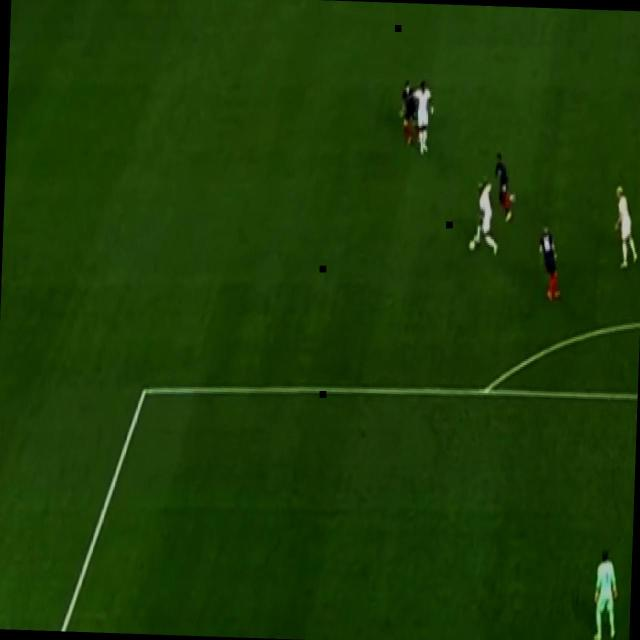ball: (465, 236, 477, 254)
player-white: (608, 180, 640, 276), (591, 545, 621, 640), (471, 177, 504, 259), (533, 222, 564, 306), (404, 74, 434, 160), (489, 147, 519, 225), (395, 75, 418, 147)
